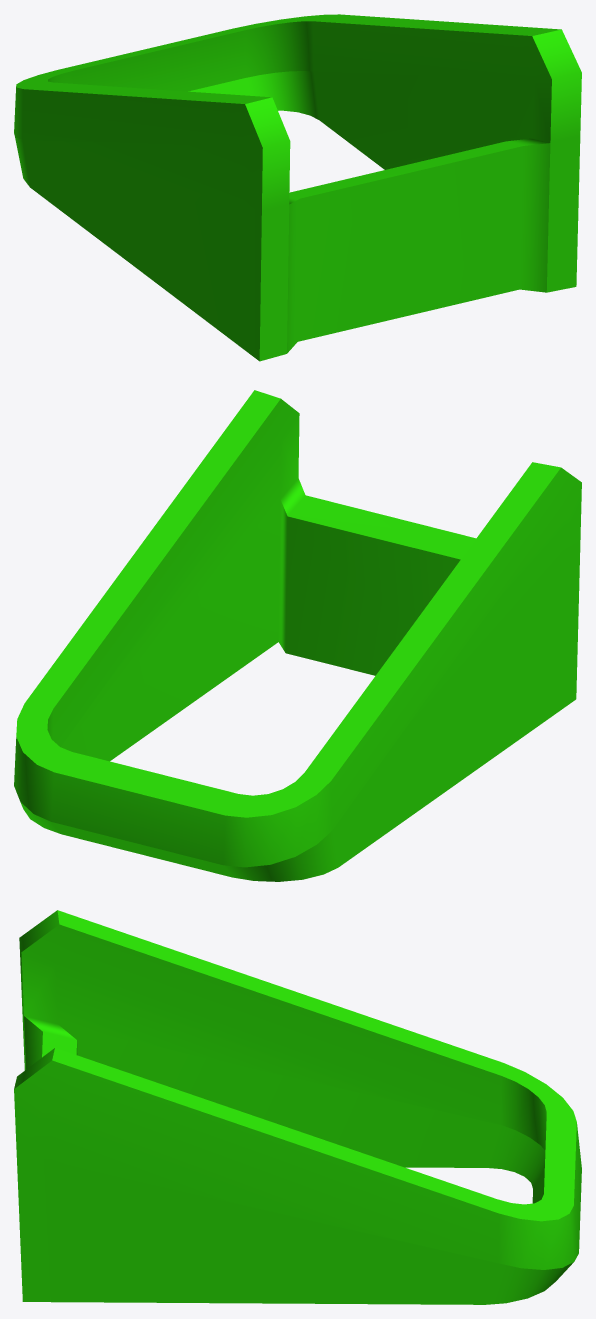
Rendered from Bank_Card_Base_Lod0.fbx.
3 renders of one model, top to bottom at view 1: azimuth 30°, elevation 25°; view 2: azimuth 150°, elevation 25°; view 3: azimuth 270°, elevation 25°, orthographic.
Visible parts, largest first — view 1: Bank_Card_Base_Lod0; view 2: Bank_Card_Base_Lod0; view 3: Bank_Card_Base_Lod0.
Boxes of the visible parts, x1,y1,x2,y2 form: Bank_Card_Base_Lod0: (14,14,581,361); Bank_Card_Base_Lod0: (14,390,581,881); Bank_Card_Base_Lod0: (14,910,581,1304).
Size of the model in its own units: 15.26 by 11.13 by 23.71.
